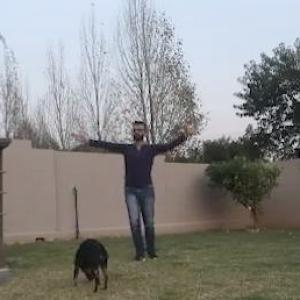takeoff: (59, 100, 193, 270)
